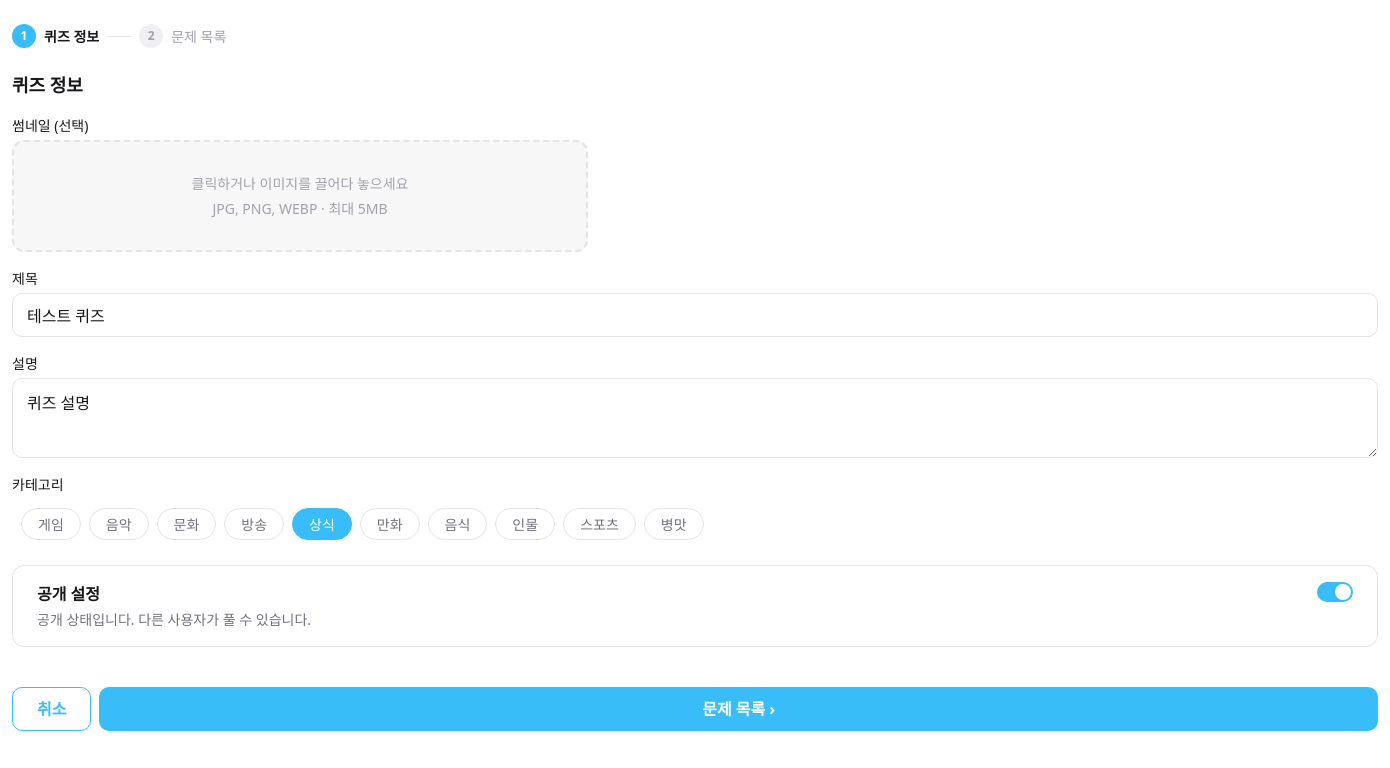
Test: QuizEditPage › isSubmitting / submit 에러 › useUpdateQuiz.error 존재 시 STEP 2 에서 role="alert" 배너 노출
The width and height of the screenshot is (1390, 768).
Step 1. Click the button "문제 목록 ›" → (739, 709), box [100, 687, 1378, 731]
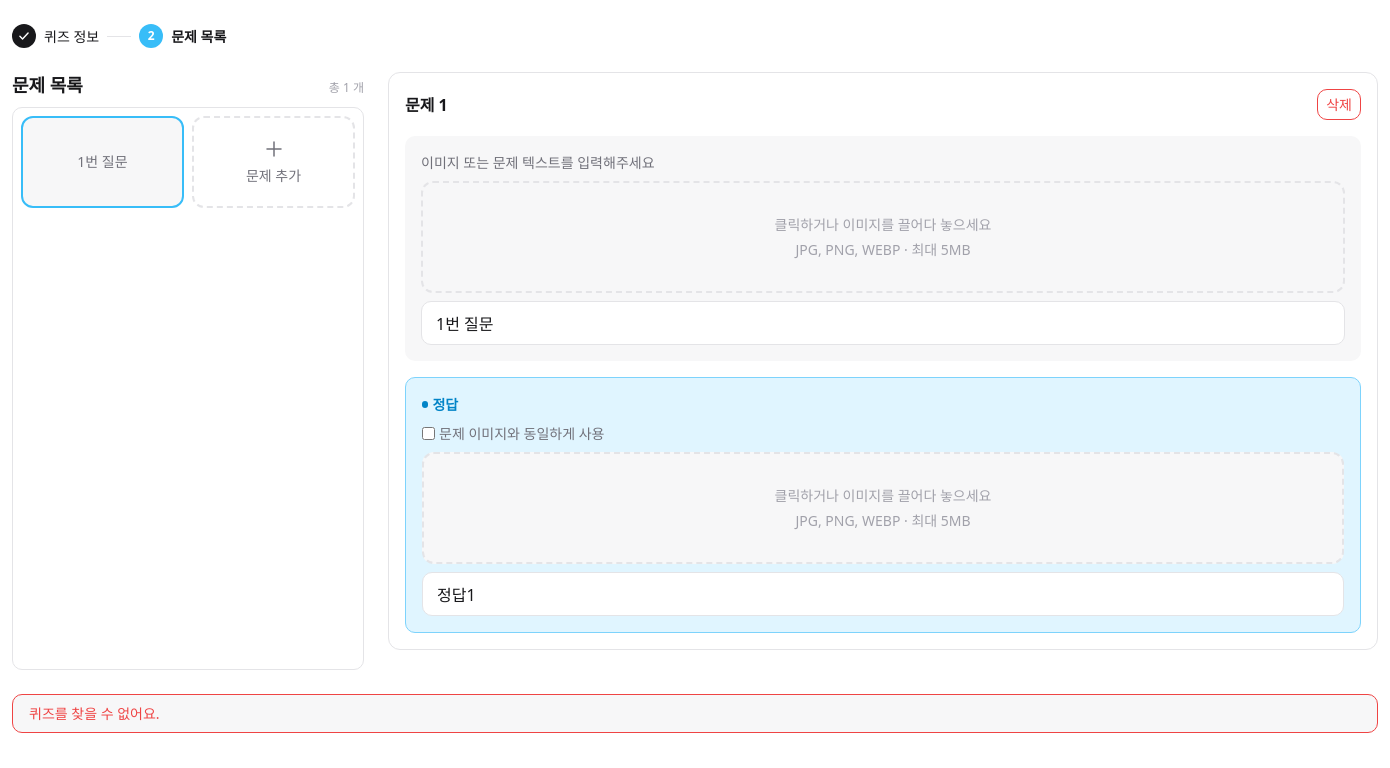
expect the message reads "퀴즈를 찾을 수 없어요.": met, box [29, 704, 160, 723]
